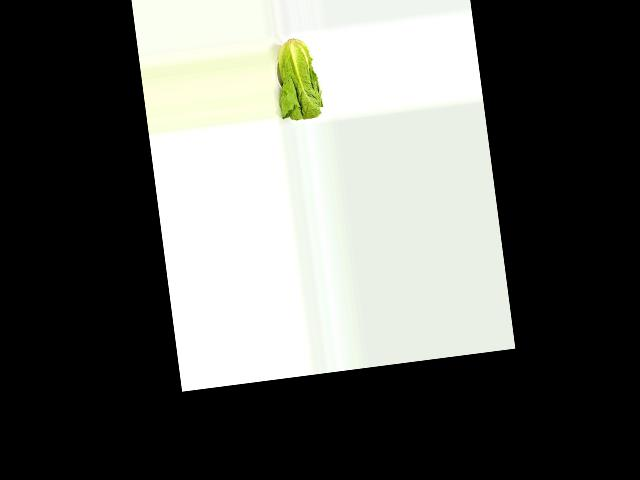lettuce: (270, 34, 326, 122)
